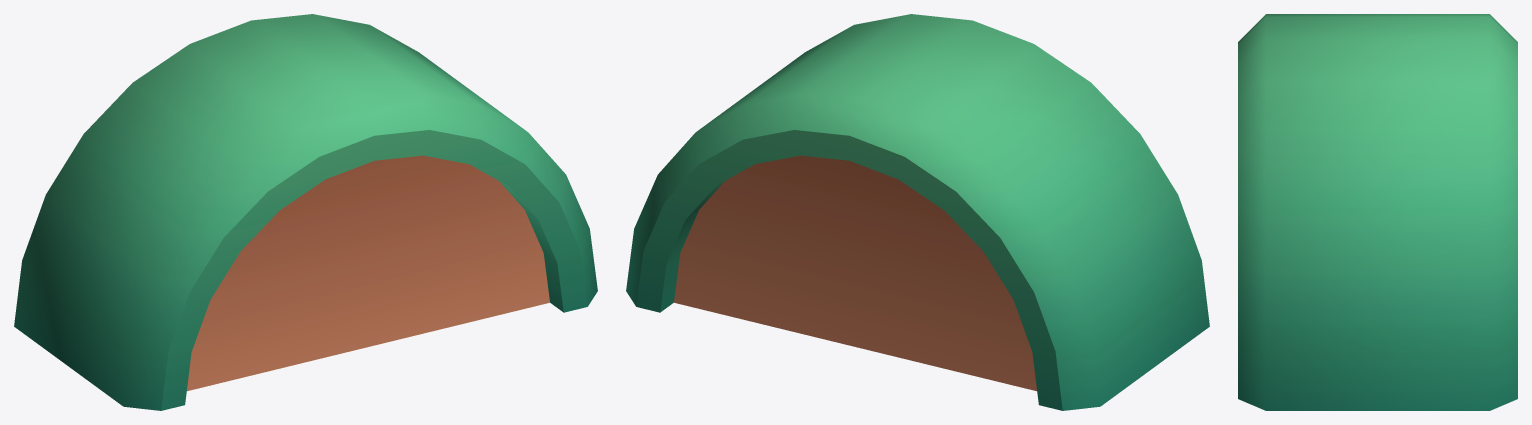
File: kenney-platformer-block-grass-curve.glb
3 renders of one model, left to right at view 1: azimuth 30°, elevation 25°; view 2: azimuth 150°, elevation 25°; view 3: azimuth 270°, elevation 25°, orthographic. The views are drawn at different scales.
Visible parts, largest first — view 1: block-grass-curve; view 2: block-grass-curve; view 3: block-grass-curve.
Part boxes in pixels (x1,y1,x2,y2): block-grass-curve: [14, 14, 597, 410]; block-grass-curve: [626, 14, 1209, 410]; block-grass-curve: [1238, 14, 1517, 410].
Size of the model in its own units: 2 by 1 by 1.
1 material, 1 textured.
